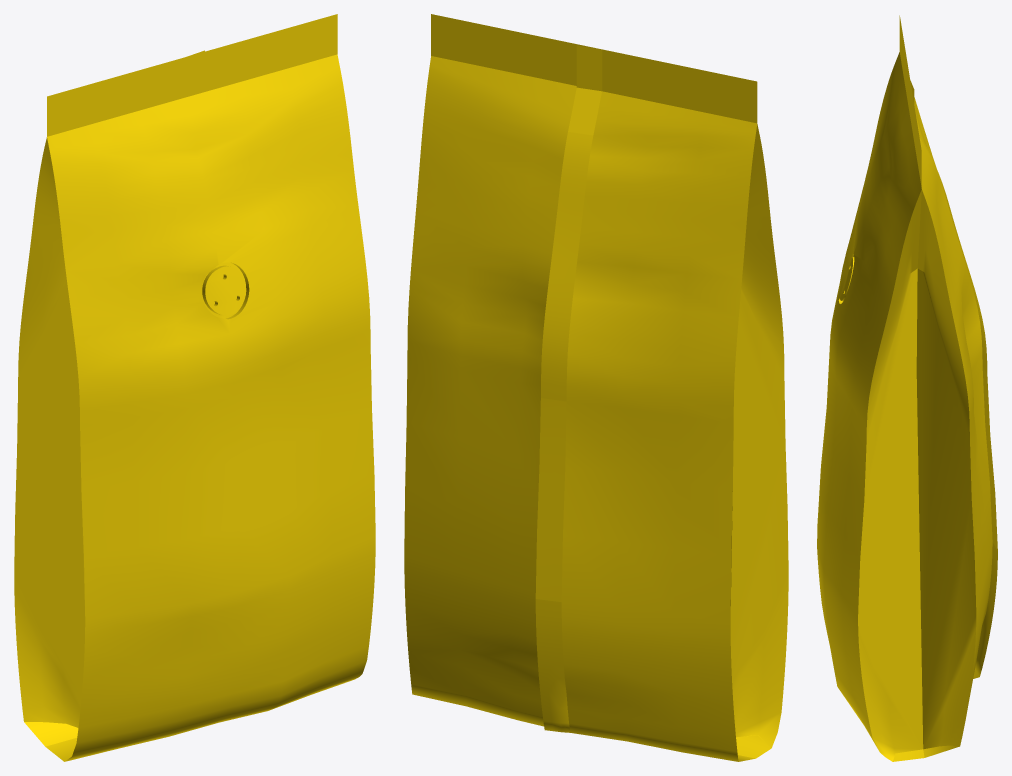
The model's file is Metalizados_D.glb.
3 renders of one model, left to right at view 1: azimuth 30°, elevation 25°; view 2: azimuth 150°, elevation 25°; view 3: azimuth 270°, elevation 25°, orthographic. The views are drawn at different scales.
Parts seen in each view (by area): view 1: Cubo; view 2: Cubo; view 3: Cubo.
Boxes of the visible parts, x1,y1,x2,y2 form: Cubo: (14, 14, 375, 761); Cubo: (404, 14, 788, 761); Cubo: (817, 15, 997, 761).
Size of the model in its own units: 2.49 by 5.03 by 1.35.
